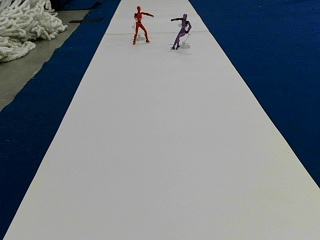pedestrian: (132, 5, 153, 44), (170, 12, 191, 49)
